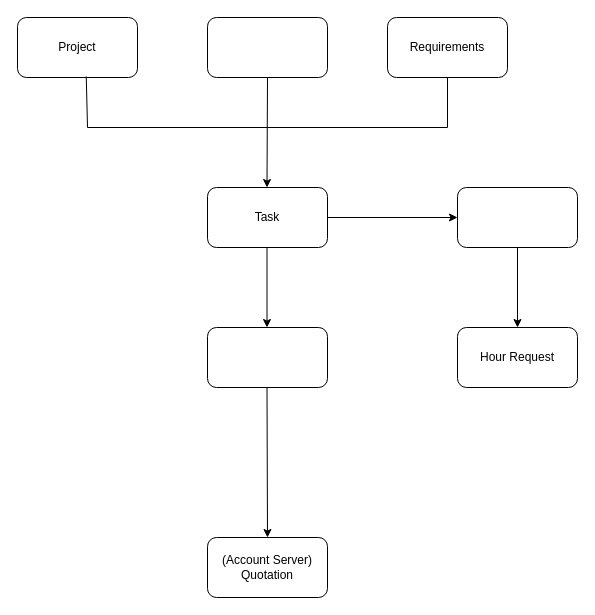
Some shapes in this 595 by 615 pixel diagram are drawn without their labels. Each missing label, with the centre of its shape:
"Estimation" goes at point (267, 357).
"Issue" goes at point (267, 47).
"Timesheet" goes at point (517, 217).
